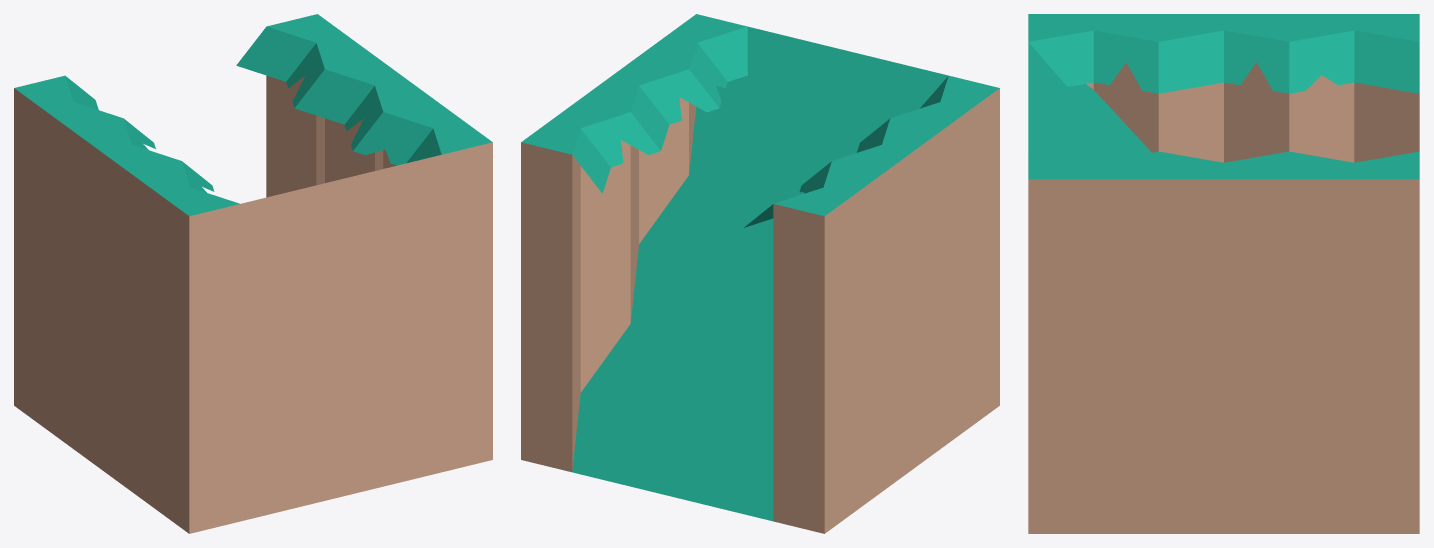
The model's file is cliff_blockSlopeWalls_rock.glb.
The picture shows the model from 3 angles, left to right: view 1: azimuth 30°, elevation 25°; view 2: azimuth 150°, elevation 25°; view 3: azimuth 270°, elevation 25°; orthographic projection. The views are drawn at different scales.
Parts seen in each view (by area): view 1: cliff_blockSlopeWalls_rock; view 2: cliff_blockSlopeWalls_rock; view 3: cliff_blockSlopeWalls_rock.
Boxes of the visible parts, box(x1,y1,x2,y2) form: cliff_blockSlopeWalls_rock: box(14, 14, 492, 533); cliff_blockSlopeWalls_rock: box(521, 14, 999, 533); cliff_blockSlopeWalls_rock: box(1028, 14, 1419, 533).
Bounding box in the file's own units: 1.16 × 1.16 × 1.16.
